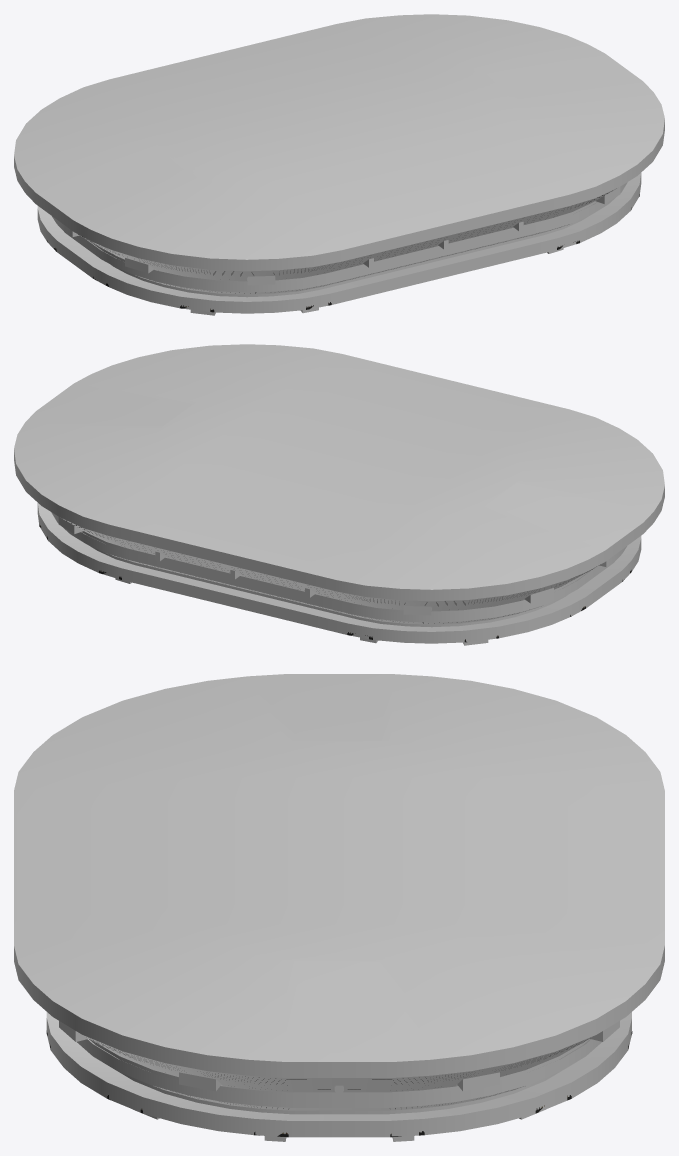
The model's file is Arena.FBX.
The picture shows the model from 3 angles, top to bottom: view 1: azimuth 30°, elevation 25°; view 2: azimuth 150°, elevation 25°; view 3: azimuth 270°, elevation 25°; orthographic projection. The views are drawn at different scales.
Visible parts, largest first — view 1: arena; view 2: arena; view 3: arena.
Boxes of the visible parts, left/top/right/bottom form: arena: left=14, top=14, right=664, bottom=315; arena: left=14, top=344, right=664, bottom=645; arena: left=14, top=674, right=664, bottom=1141.
Size of the model in its own units: 121 by 22.7 by 85.46.
